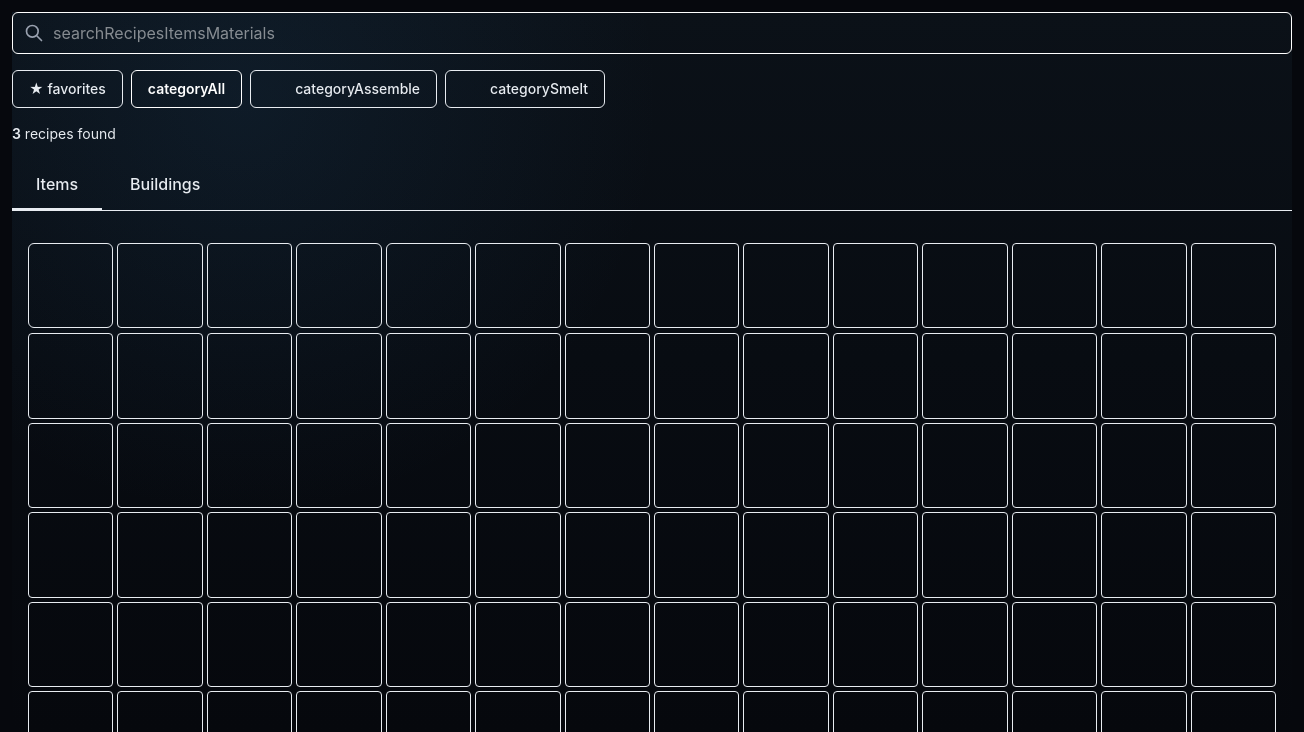
Scenario: RecipeSelector › サジェスチョンをクリックして検索できる
This screenshot has width=1304, height=732.
検索テキストを入力
Type "iron" into the field with placeholder "searchRecipesItemsMaterials". click: (652, 33)
box: [12,12,1292,54]
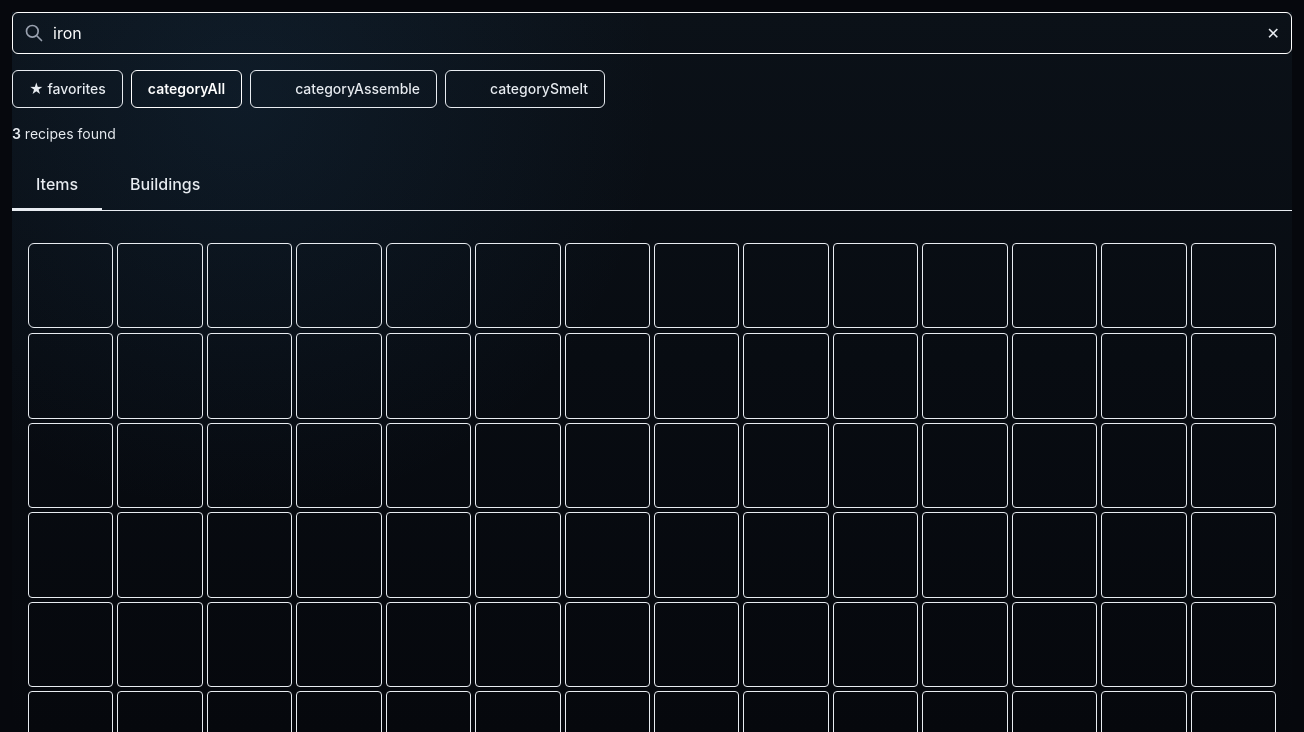
Focus the field with placeholder "searchRecipesItemsMaterials". click: (652, 33)
box: [12,12,1292,54]
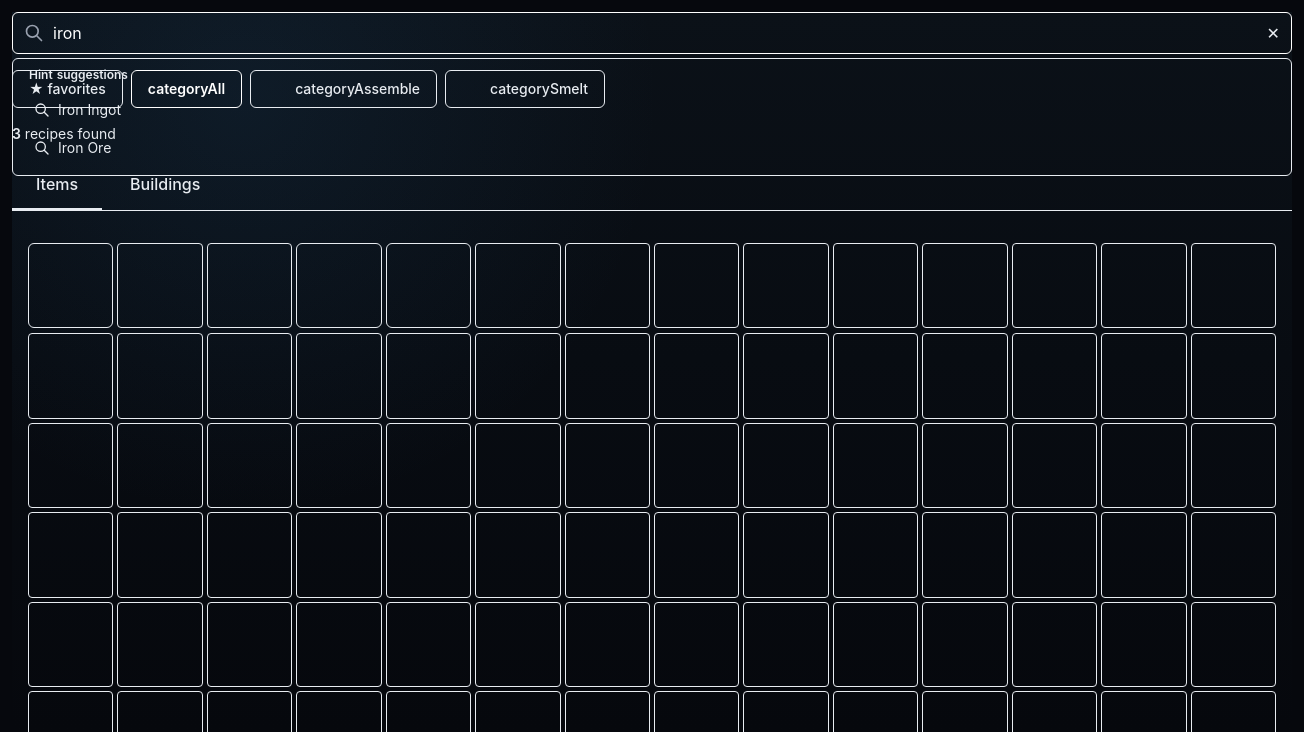
Click the button "Iron Ingot". click: (90, 110)
box: [21,91,1283,129]
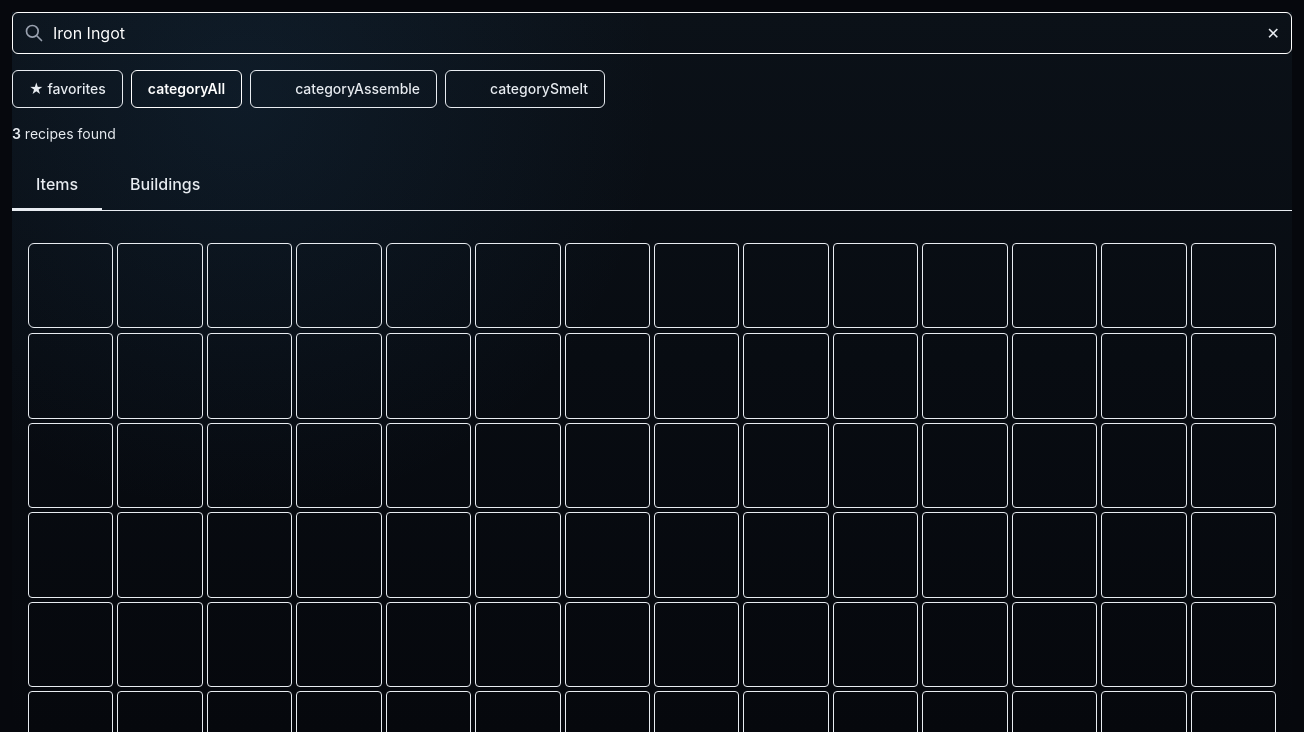
Check: the field with placeholder "searchRecipesItemsMaterials" holds "Iron Ingot", box [12,12,1292,54]
